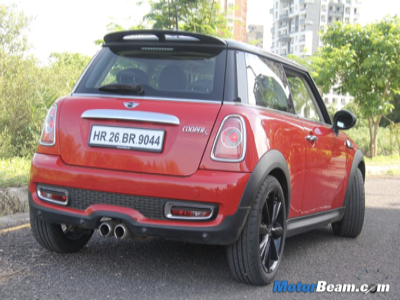licence: (91, 124, 164, 155)
